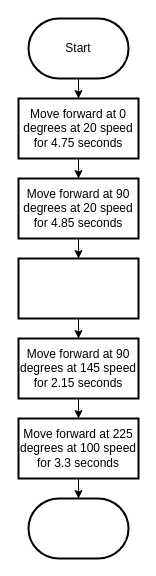
Image size: 156x576. Some labels were removed from this diagram. Each missing label, with the box of its shape:
End: (27, 497, 129, 559)
Move forward at 0 degrees at 20 speed for 5.45 seconds: (17, 257, 139, 319)
